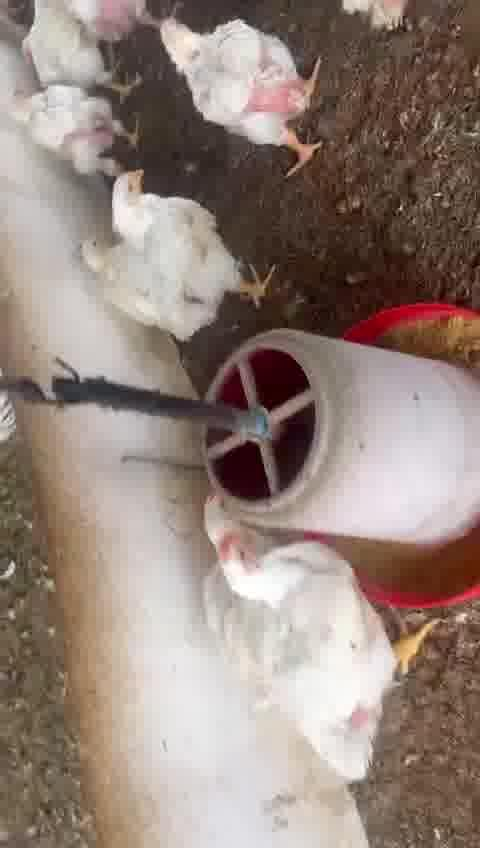Normal: (219, 534, 427, 735), (162, 19, 327, 170), (117, 169, 277, 308), (10, 84, 137, 176)
